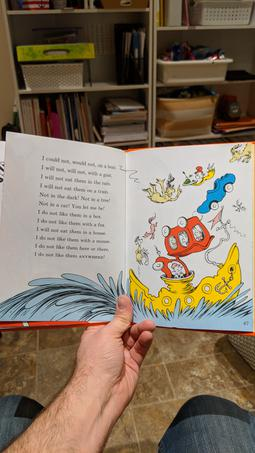text block: (29, 148, 120, 266)
